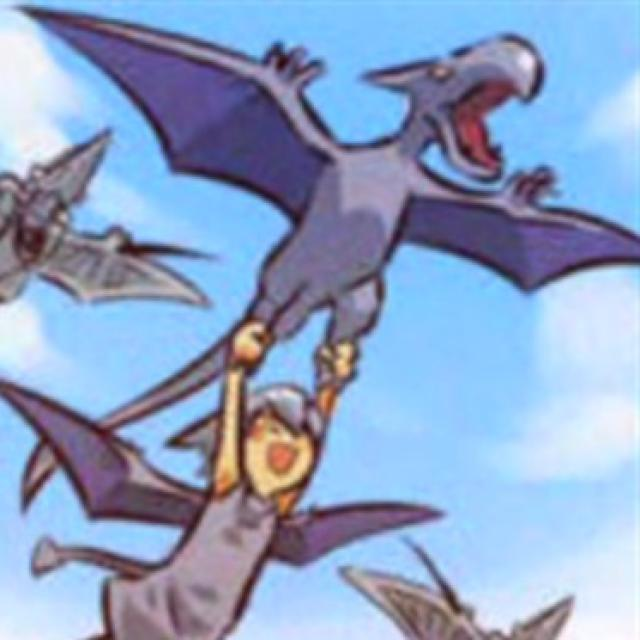Aerodactyl: (146, 31, 609, 334)
